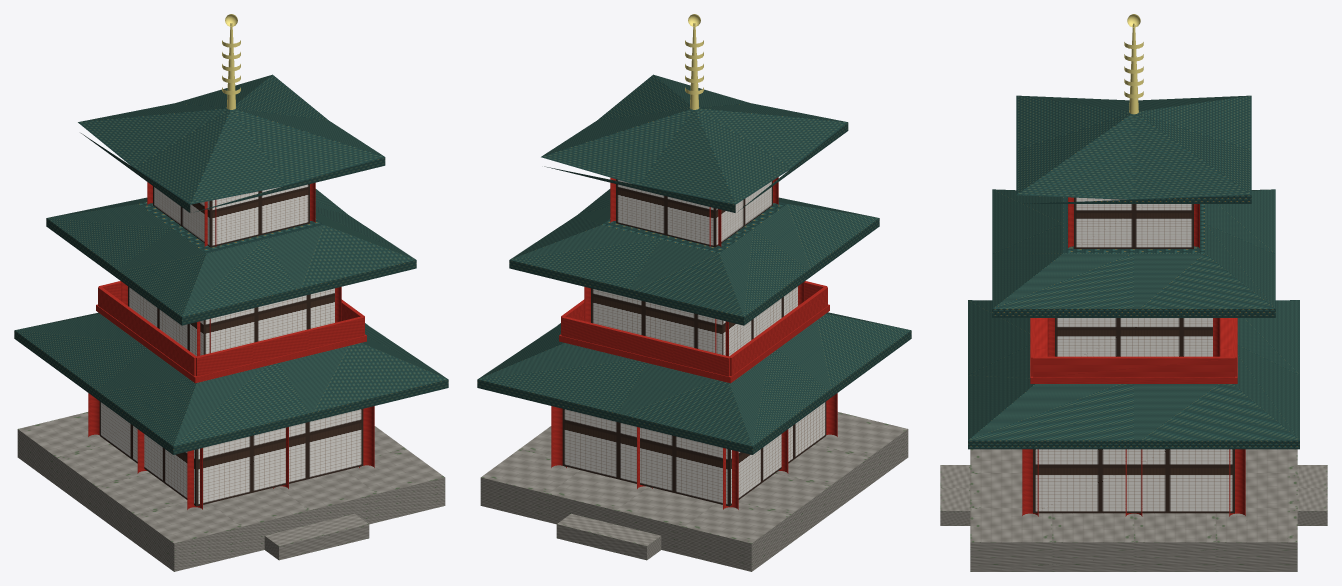
File: asian_pagoda.glb
The picture shows the model from 3 angles, left to right: view 1: azimuth 30°, elevation 25°; view 2: azimuth 150°, elevation 25°; view 3: azimuth 270°, elevation 25°; orthographic projection. The views are drawn at different scales.
Parts seen in each view (by area): view 1: ModelRoot; view 2: ModelRoot; view 3: ModelRoot.
Part boxes in pixels (x1,y1,x2,y2): ModelRoot: (14, 14, 448, 571); ModelRoot: (477, 14, 911, 571); ModelRoot: (940, 14, 1327, 571).
Bounding box in the file's own units: 12.18 × 19.75 × 14.2.
5 materials, 4 textured.
